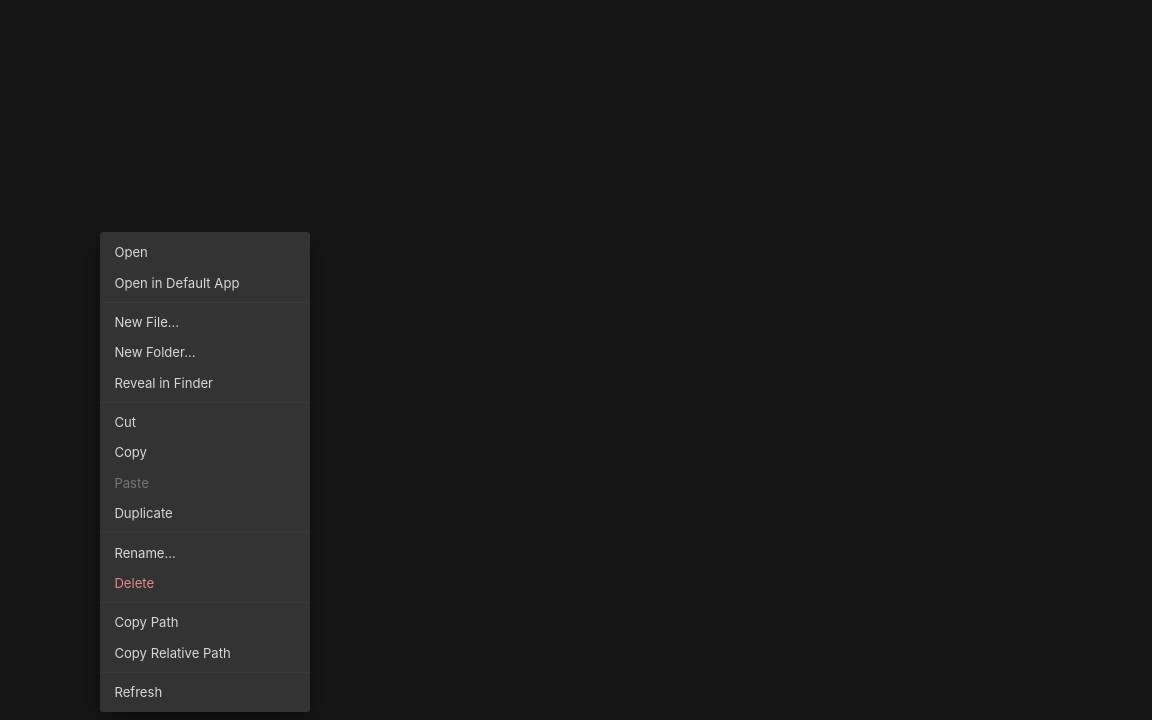
Test: surfaces native failures instead of silently closing
Click the button "Open in Default App".
click(205, 282)  # box [100,267,310,298]
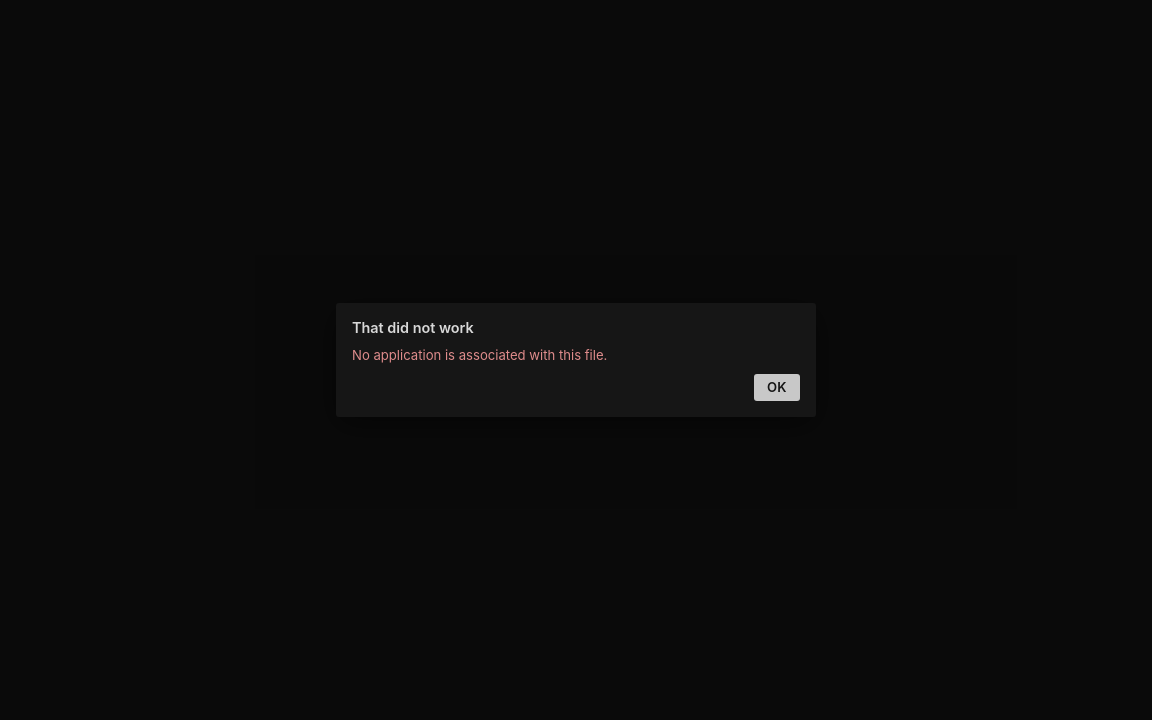
Expected: the message "No application is associated with this file." is shown, [352,347,607,363]
Expected: the dialog with test id "file-error-dialog" is shown, [336,303,816,417]
